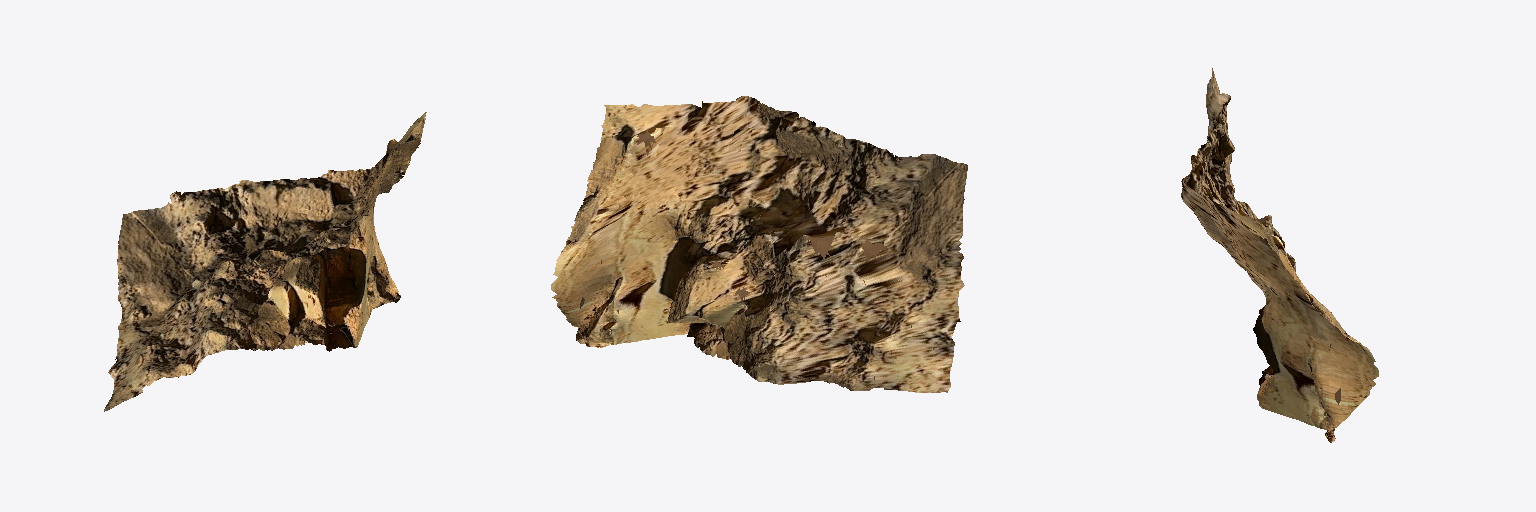
The picture shows the model from 3 angles: view 1: azimuth 30°, elevation 25°; view 2: azimuth 150°, elevation 25°; view 3: azimuth 270°, elevation 25°; orthographic projection.
Size of the model in its own units: 1.85 by 1.14 by 0.9473.
Materials: 1 (1 with a texture image).